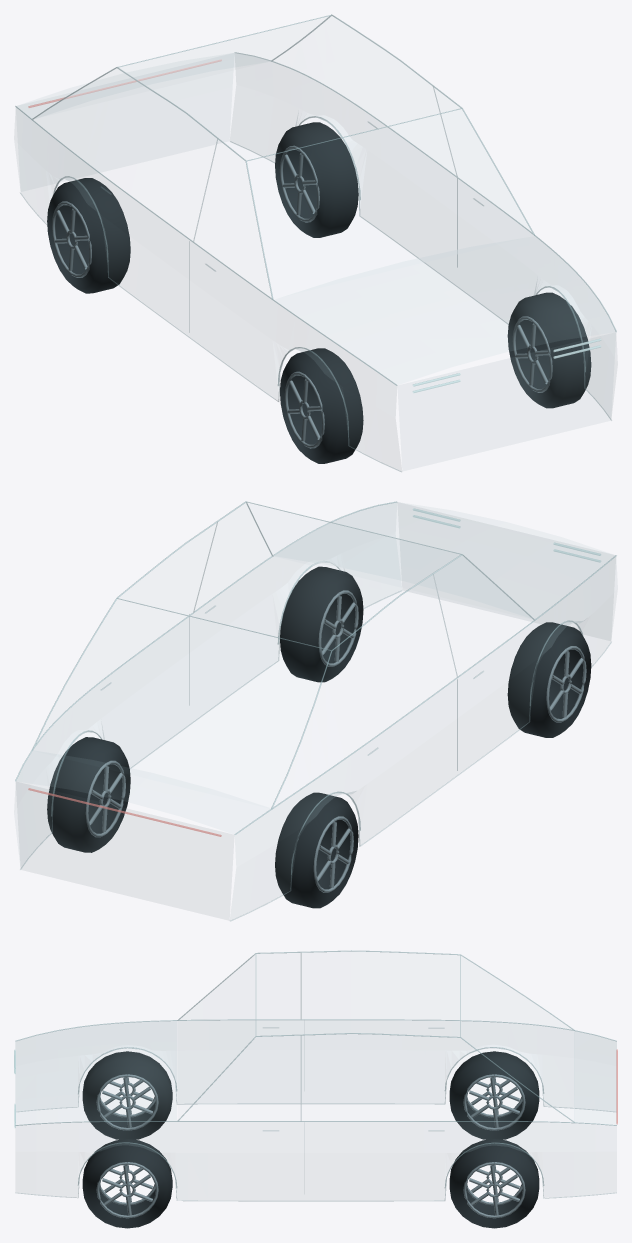
The model's file is genesis_gv70.glb.
The picture shows the model from 3 angles, top to bottom: view 1: azimuth 30°, elevation 25°; view 2: azimuth 150°, elevation 25°; view 3: azimuth 270°, elevation 25°; orthographic projection. The views are drawn at different scales.
Visible parts, largest first — view 1: shell_body, shell_tyre_right_front, shell_tyre_right_rear, shell_tyre_left_rear, shell_tyre_left_front, shell_contours, shell_details, shell_rim_left_front, shell_rim_right_front, shell_rim_left_rear, shell_rim_right_rear; view 2: shell_body, shell_tyre_right_rear, shell_tyre_right_front, shell_tyre_left_front, shell_tyre_left_rear, shell_contours, shell_details, shell_rim_right_rear, shell_rim_left_rear, shell_rim_left_front, shell_rim_right_front, shell_front_lamps; view 3: shell_body, shell_tyre_left_rear, shell_tyre_left_front, shell_tyre_right_rear, shell_tyre_right_front, shell_contours, shell_rim_right_rear, shell_rim_left_front, shell_rim_right_front, shell_rim_left_rear, shell_details.
Boxes of the visible parts, box(x1,y1,x2,y2) form: shell_body: box(16, 53, 615, 435); shell_tyre_right_front: box(280, 348, 363, 463); shell_tyre_right_rear: box(47, 178, 130, 293); shell_tyre_left_rear: box(275, 122, 358, 237); shell_tyre_left_front: box(507, 292, 591, 408); shell_contours: box(15, 14, 616, 429); shell_details: box(20, 87, 611, 471); shell_rim_left_front: box(512, 316, 552, 392); shell_rim_right_front: box(284, 371, 324, 448); shell_rim_left_rear: box(279, 145, 319, 222); shell_rim_right_rear: box(52, 201, 91, 277); shell_body: box(16, 502, 615, 881); shell_tyre_right_rear: box(275, 792, 358, 908); shell_tyre_right_front: box(507, 622, 591, 737); shell_tyre_left_front: box(280, 566, 363, 682); shell_tyre_left_rear: box(47, 737, 130, 852); shell_contours: box(15, 501, 616, 874); shell_details: box(20, 522, 611, 921); shell_rim_right_rear: box(313, 816, 353, 892); shell_rim_left_rear: box(85, 760, 125, 837); shell_rim_left_front: box(318, 590, 358, 666); shell_rim_right_front: box(546, 646, 586, 722); shell_front_lamps: box(412, 508, 601, 562); shell_body: box(15, 1021, 616, 1154); shell_tyre_left_rear: box(449, 1139, 539, 1228); shell_tyre_left_front: box(82, 1139, 172, 1228); shell_tyre_right_rear: box(449, 1051, 539, 1139); shell_tyre_right_front: box(82, 1051, 172, 1139); shell_contours: box(15, 950, 616, 1188); shell_rim_right_rear: box(463, 1074, 525, 1130); shell_rim_left_front: box(96, 1162, 158, 1218); shell_rim_right_front: box(96, 1074, 158, 1130); shell_rim_left_rear: box(463, 1162, 525, 1218); shell_details: box(15, 953, 616, 1201).
Bounding box in the file's own units: 1.92 × 1.63 × 4.73.
